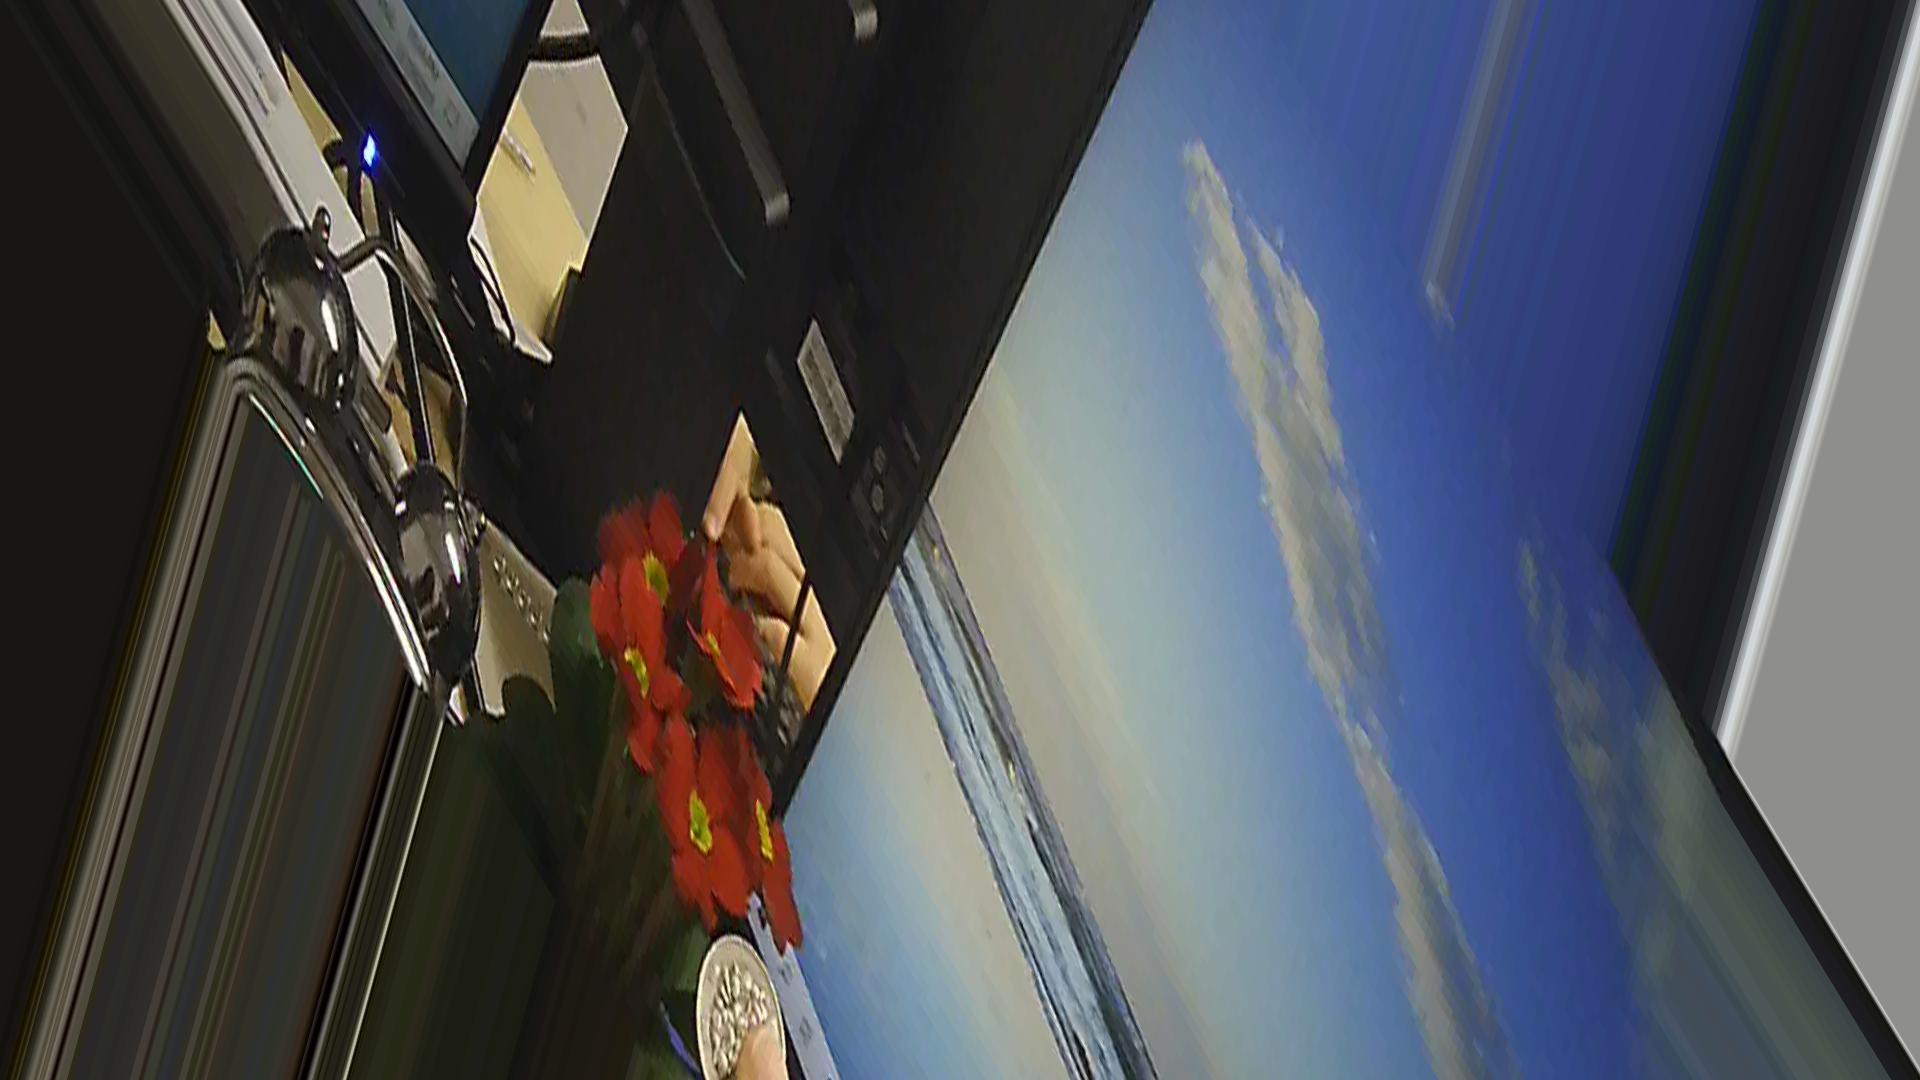100 Yen: (698, 920, 808, 1076)
